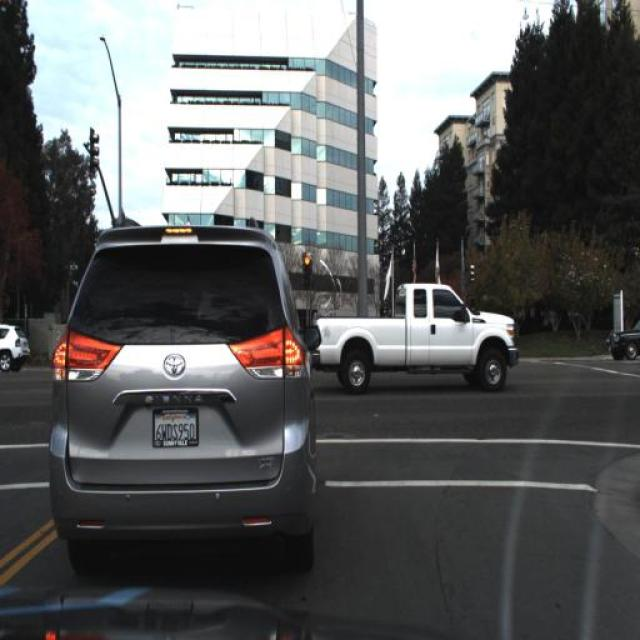car: (47, 214, 321, 574), (309, 278, 519, 392), (610, 310, 640, 366), (1, 324, 32, 375)
trafficLight-RedLeft: (300, 249, 312, 290)
